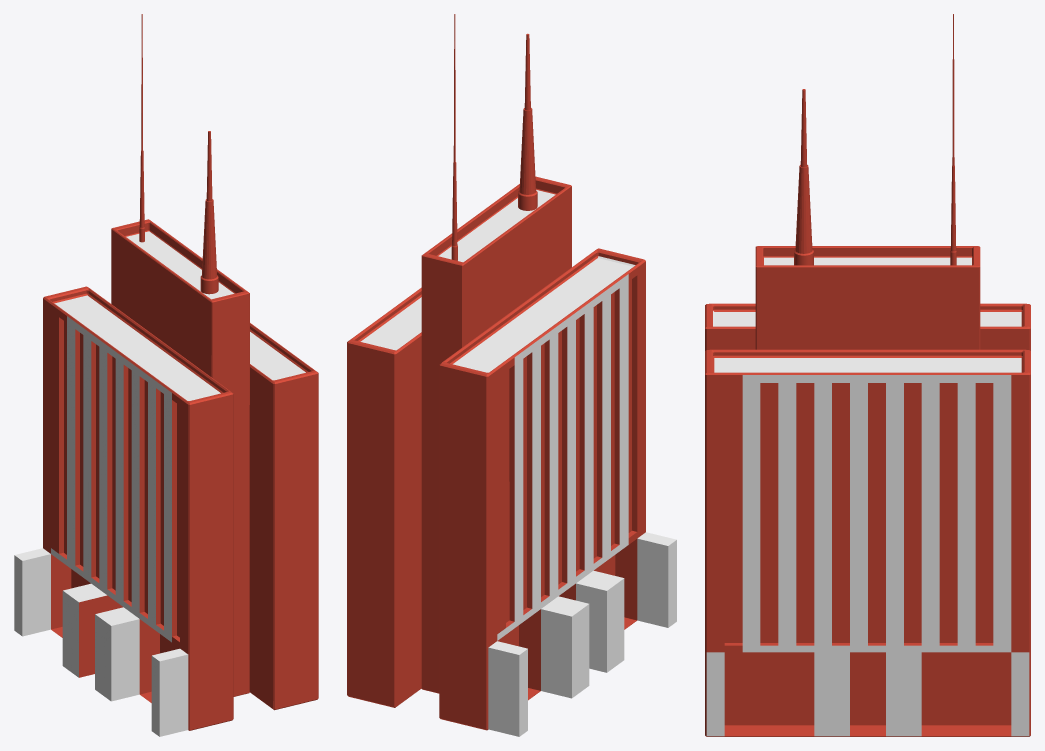
Rendered from Building_23_Red.glb.
3 views of the same model, side by side, from view 1: azimuth 30°, elevation 25°; view 2: azimuth 150°, elevation 25°; view 3: azimuth 270°, elevation 25° (orthographic). The views are drawn at different scales.
Visible parts, largest first — view 1: pCube10; view 2: pCube10; view 3: pCube10.
Boxes of the visible parts, <box> form: pCube10: <box>14,14,318,736</box>; pCube10: <box>347,14,676,736</box>; pCube10: <box>705,14,1030,736</box>.
Bounding box in the file's own units: 1291 × 4810 × 2064.
